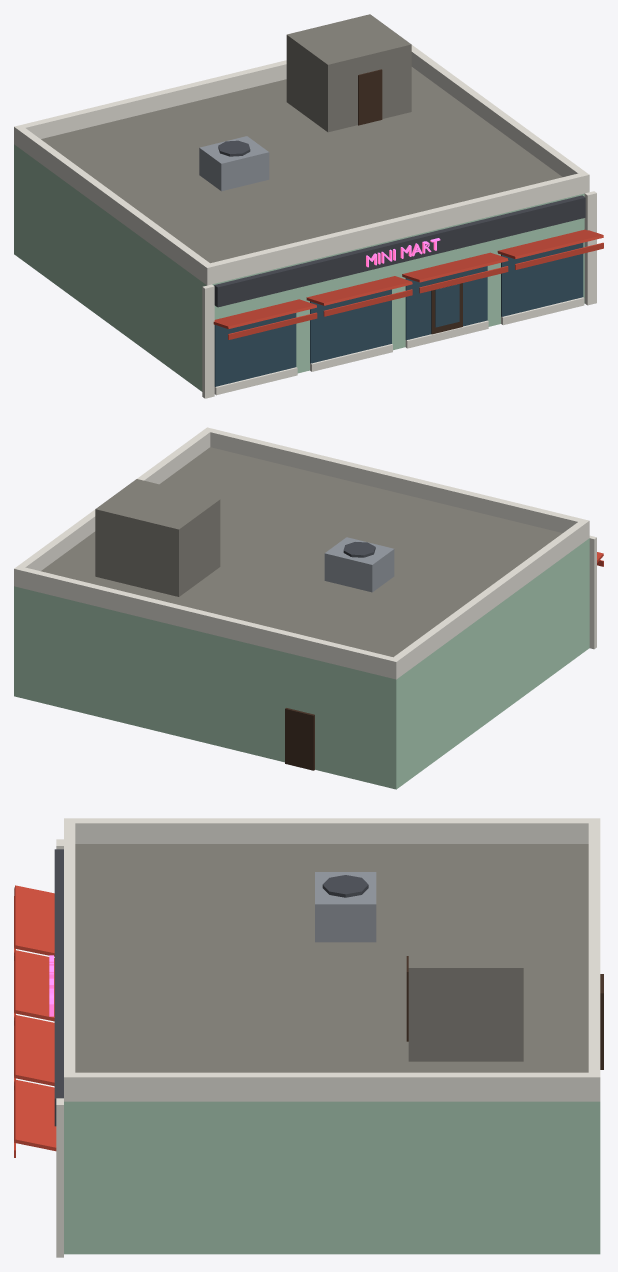
File: shop_c.glb
The picture shows the model from 3 angles, top to bottom: view 1: azimuth 30°, elevation 25°; view 2: azimuth 150°, elevation 25°; view 3: azimuth 270°, elevation 25°; orthographic projection. The views are drawn at different scales.
Parts seen in each view (by area): view 1: shop_c; view 2: shop_c; view 3: shop_c.
Boxes of the visible parts, x1=… form: shop_c: x1=14, y1=14, x2=603, y2=398; shop_c: x1=14, y1=427, x2=603, y2=789; shop_c: x1=14, y1=818, x2=603, y2=1257.
Size of what is drawn, in the model's own units: 16.4 by 7.2 by 15.4.
